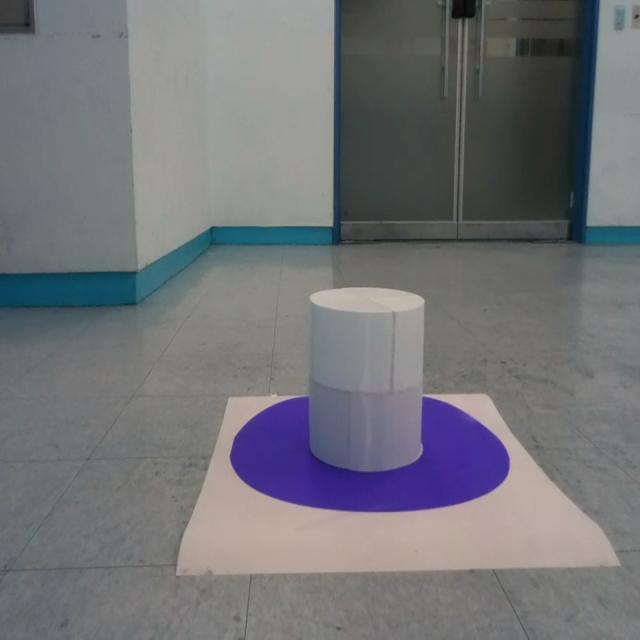cylinder: (307, 287, 426, 472)
